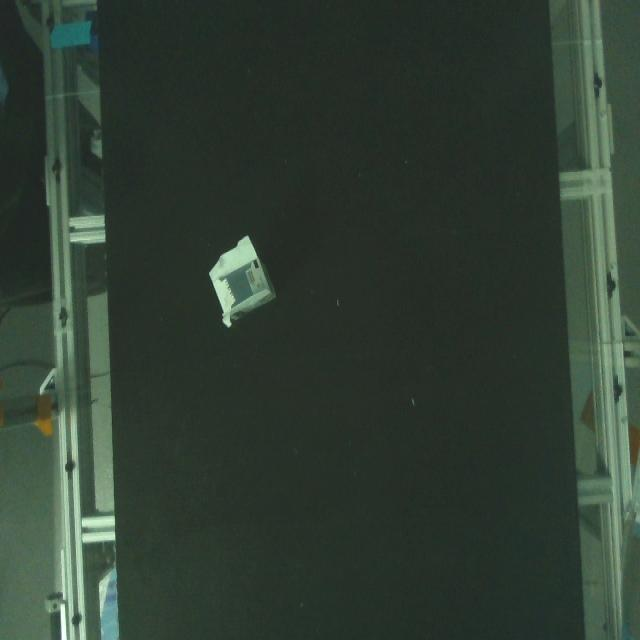paper: (206, 222, 278, 327)
